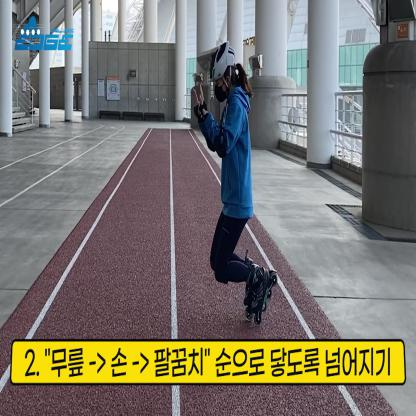Fall_Down: (184, 43, 272, 315)
